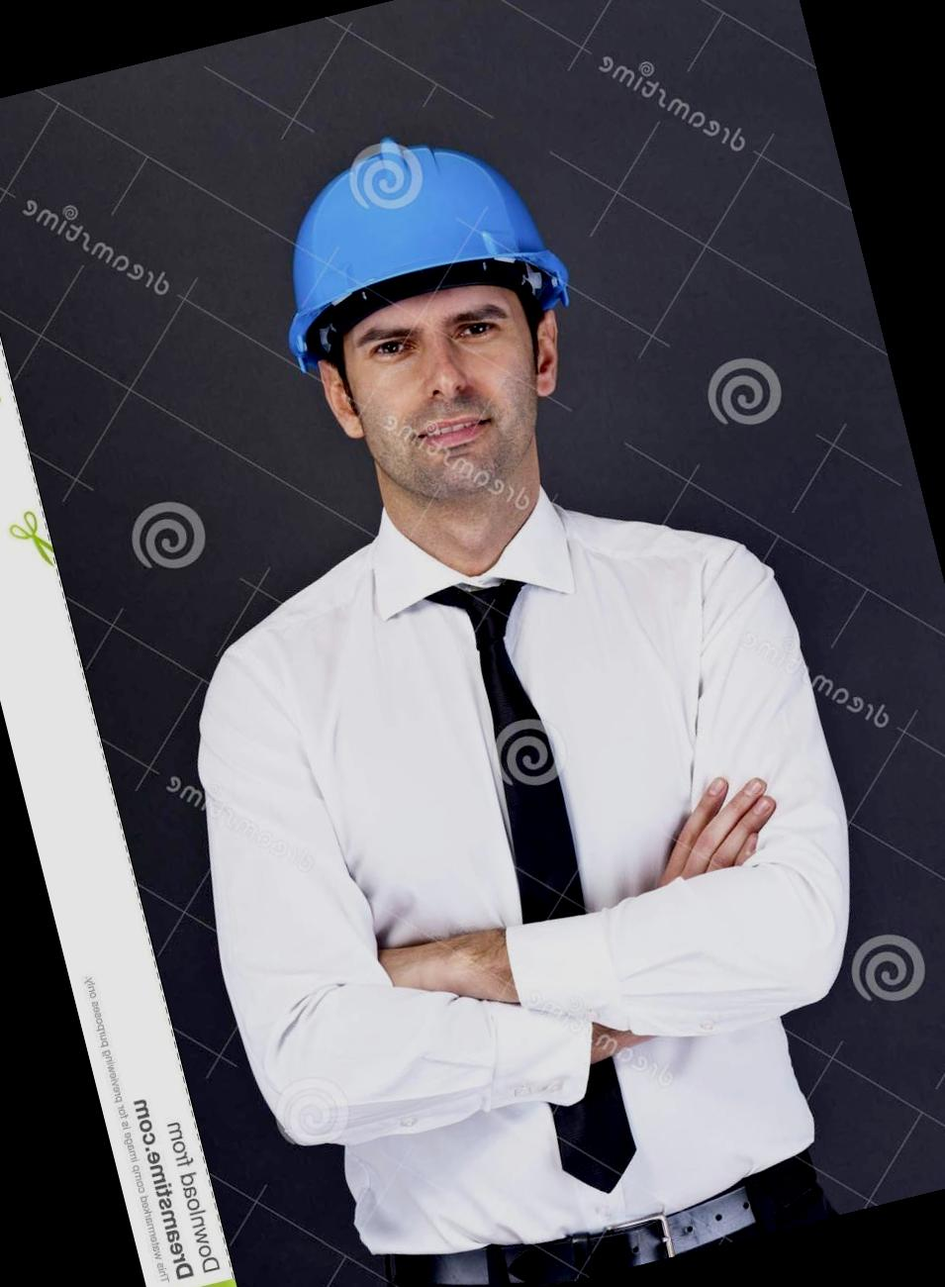helmet: (259, 99, 553, 334)
no_vest: (138, 418, 932, 1287)
person: (17, 49, 945, 1287)
